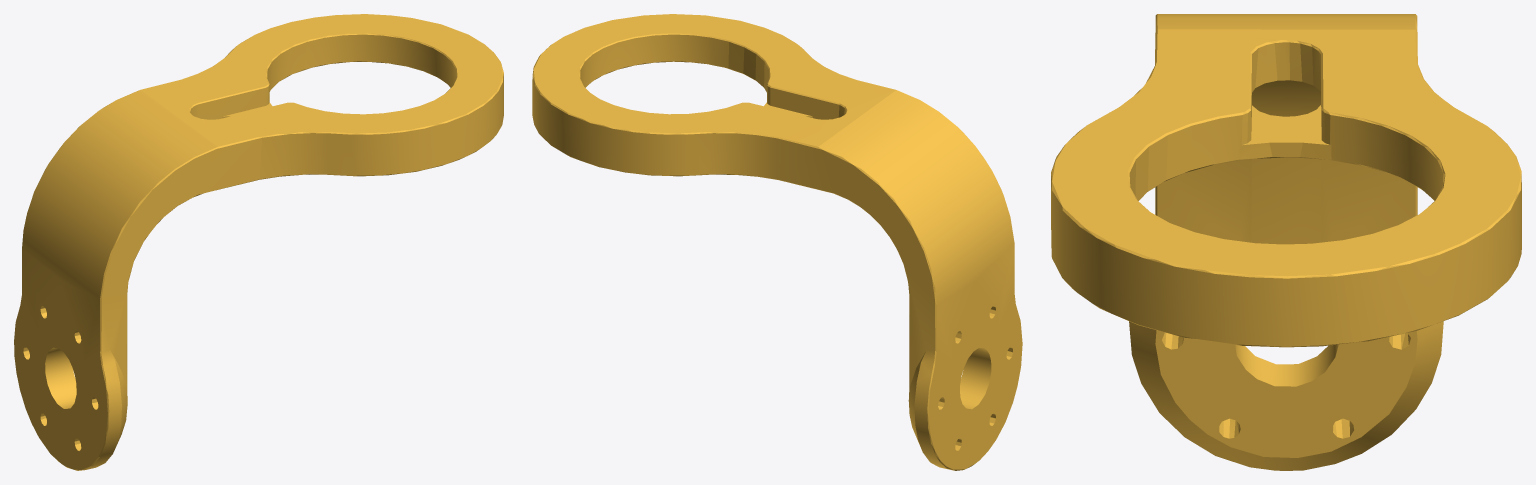
The model's file is arml7.dae.
The picture shows the model from 3 angles, left to right: view 1: azimuth 30°, elevation 25°; view 2: azimuth 150°, elevation 25°; view 3: azimuth 270°, elevation 25°; orthographic projection. The views are drawn at different scales.
Visible parts, largest first — view 1: armr7; view 2: armr7; view 3: armr7.
Part boxes in pixels (left/top/right/bottom): armr7: left=14, top=14, right=503, bottom=470; armr7: left=532, top=14, right=1022, bottom=470; armr7: left=1051, top=14, right=1521, bottom=470.
Bounding box in the file's own units: 0.093 × 0.0539 × 0.0665.
1 material, 1 textured.
